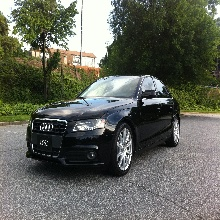no damage: (25, 74, 182, 176)
